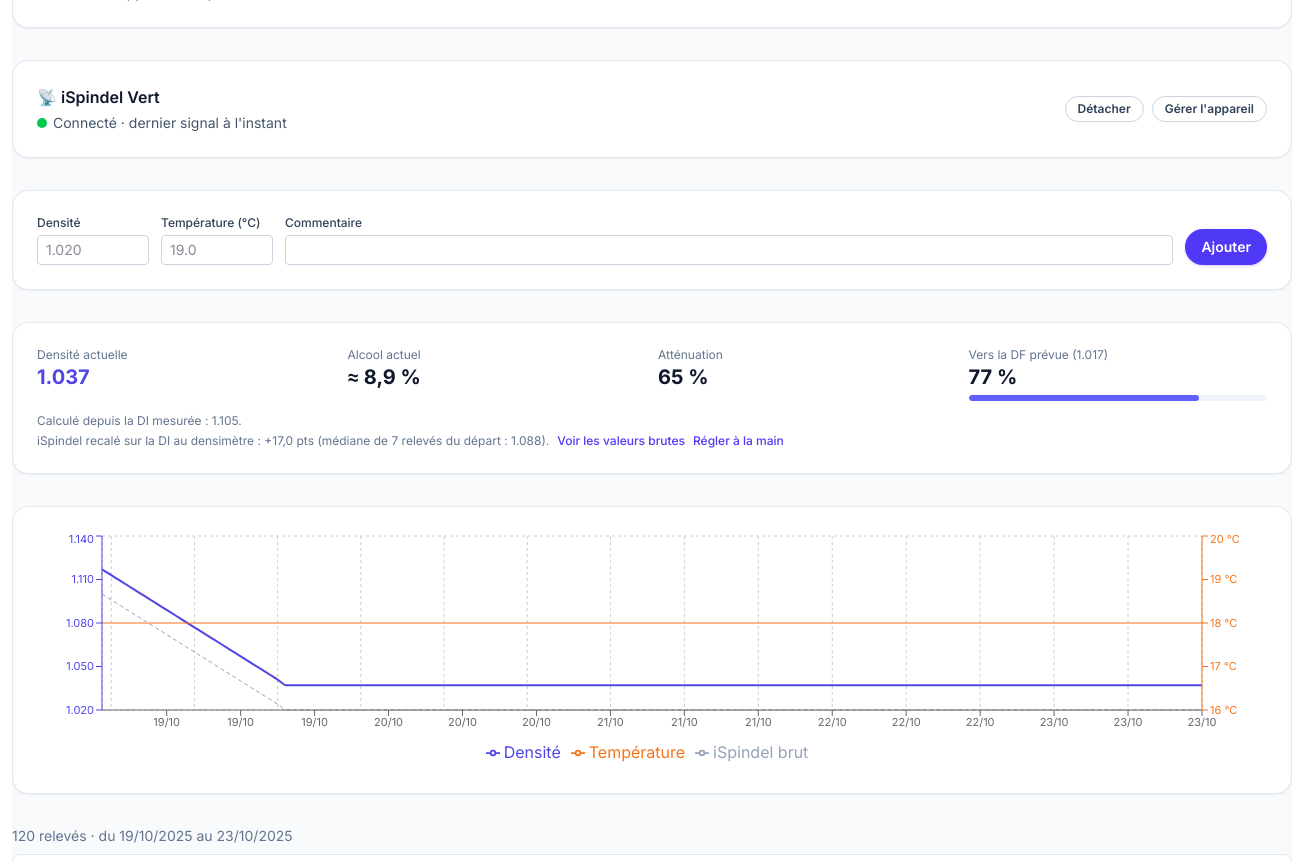
Scenario: Suivi de fermentation › signale une densité stable pendant la fermentation
The image size is (1292, 862).
(page scrolled)
Click the button "Voir les valeurs brutes". click: (621, 441)
box: x1=557 y1=433 x2=685 y2=449
(page scrolled)
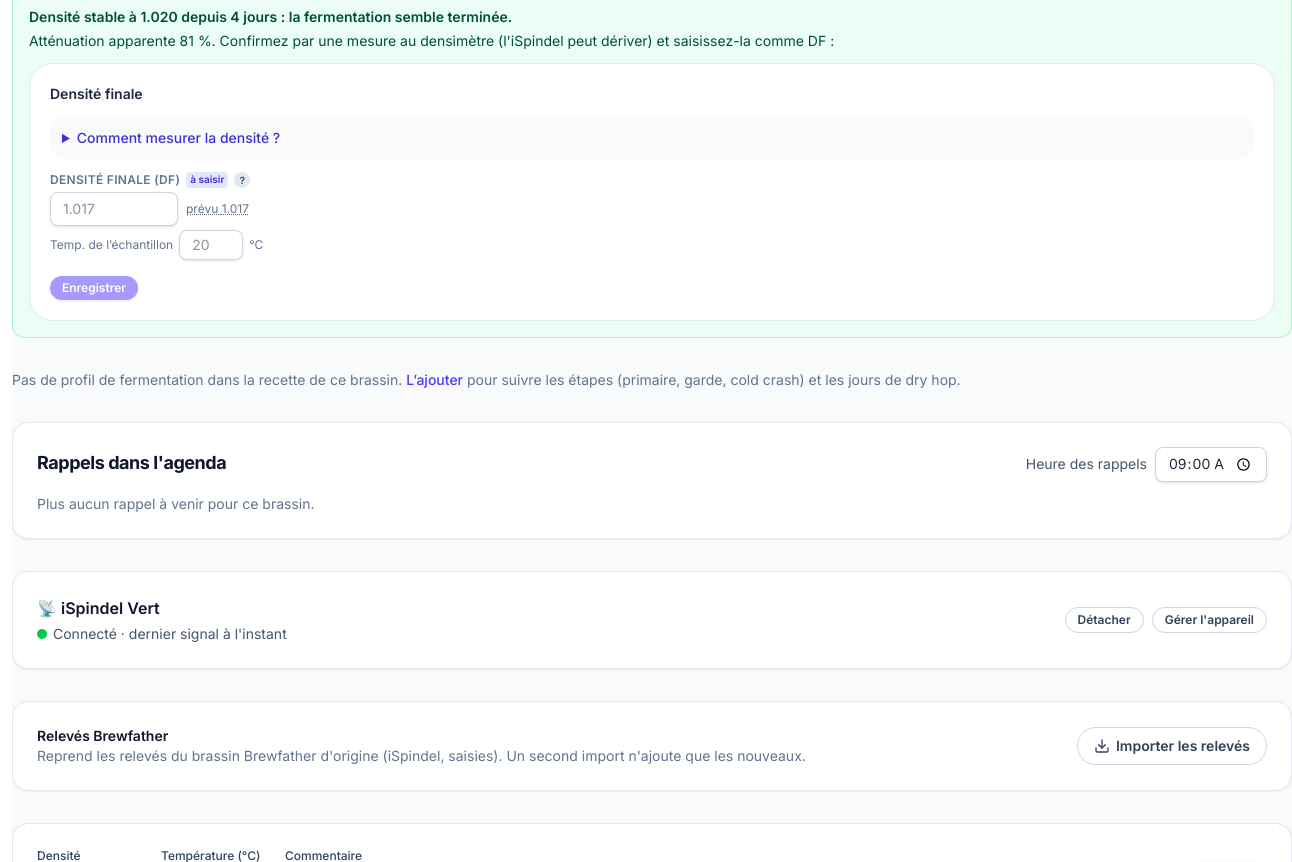
Expected: the text "Densité stable à 1.020 depuis 4 jours" is shown, x1=29 y1=8 x2=512 y2=25
Expected: the text "Atténuation apparente 81 %" is shown, x1=29 y1=32 x2=834 y2=49
